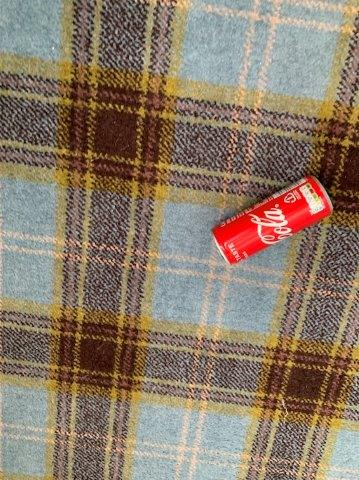kaleng: (213, 179, 332, 263)
